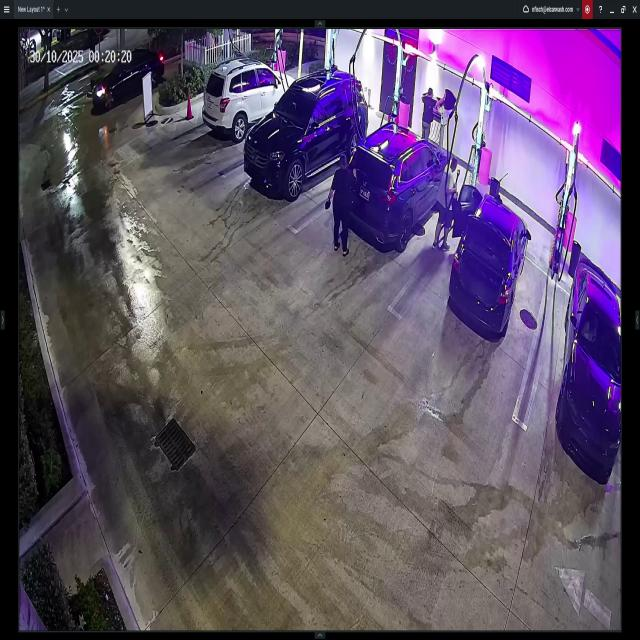Car: (247, 68, 367, 196), (557, 259, 623, 478), (341, 118, 449, 250), (450, 187, 532, 336), (202, 58, 295, 140), (92, 48, 164, 110)
